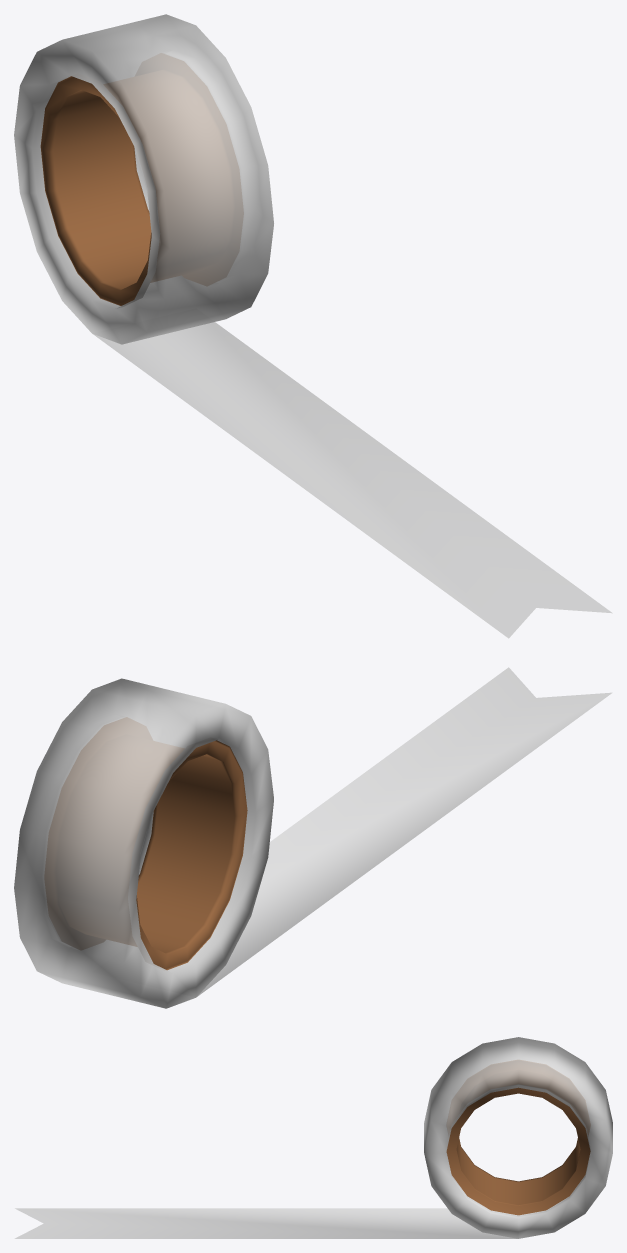
Rendered from Fita Adesiva.fbx.
3 renders of one model, top to bottom at view 1: azimuth 30°, elevation 25°; view 2: azimuth 150°, elevation 25°; view 3: azimuth 270°, elevation 25°, orthographic. The views are drawn at different scales.
Visible parts, largest first — view 1: Circle; view 2: Circle; view 3: Circle.
Part boxes in pixels (x1,y1,x2,y2): Circle: (14, 14, 612, 638); Circle: (14, 667, 612, 1008); Circle: (14, 1037, 612, 1238).
Size of the model in its own units: 3.52 by 9.12 by 28.93.
